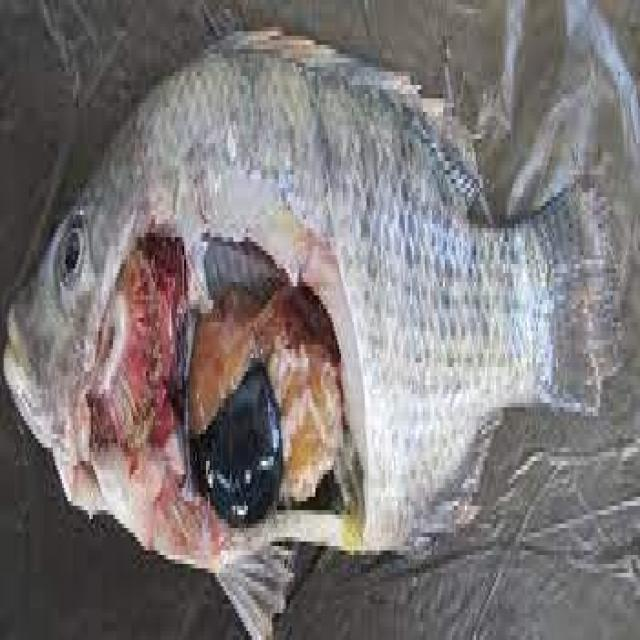EUS Disease: (3, 26, 633, 640), (32, 208, 391, 597)
